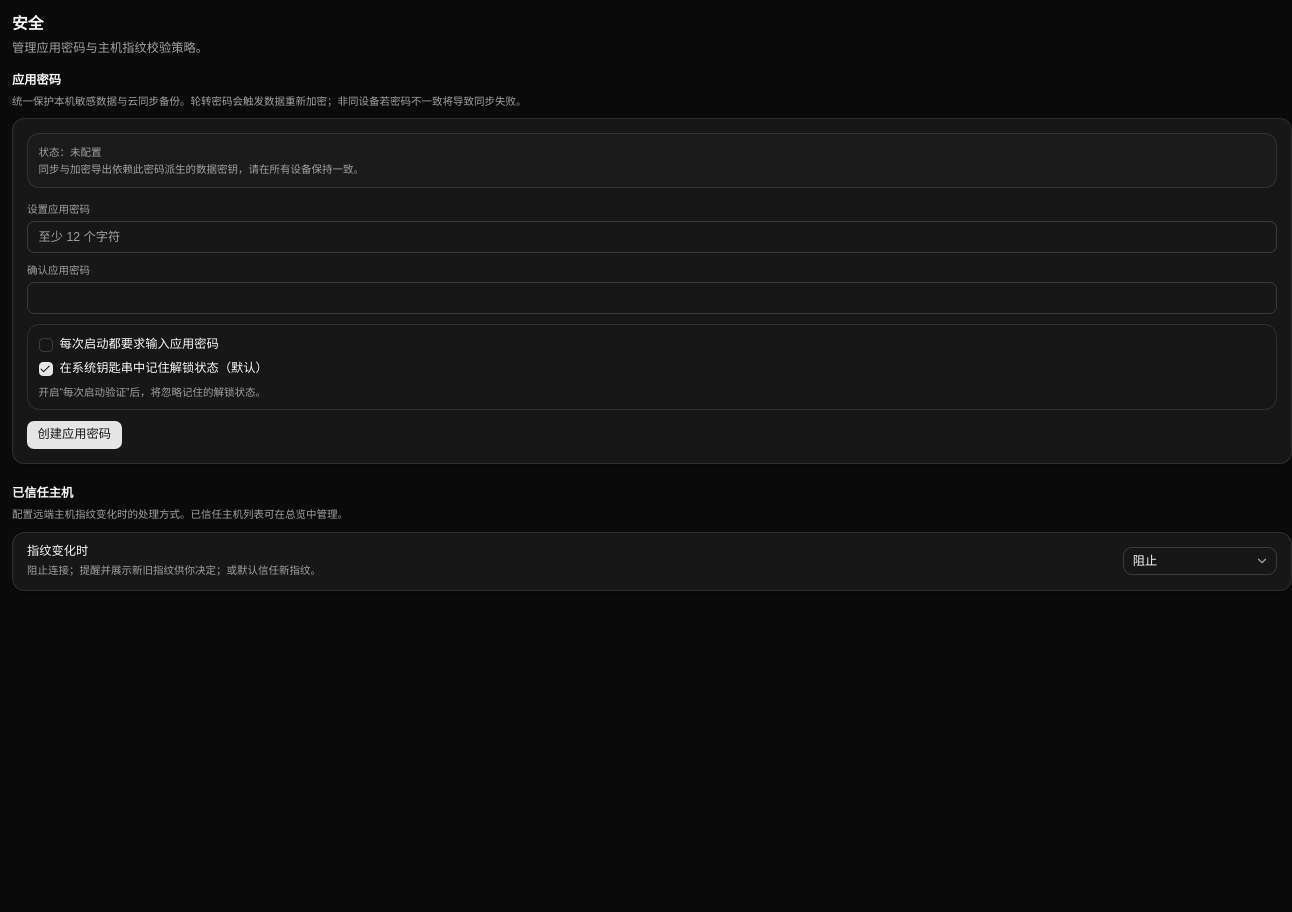
Scenario: SecurityPanel › surfaces fingerprint policy save failures inline without toast
This screenshot has width=1292, height=912.
What coordinates should you click on to do the following:
click the dropdown named "指纹变化时"
I would click on:
 (1200, 561)
Its box is [1123,547,1277,575].
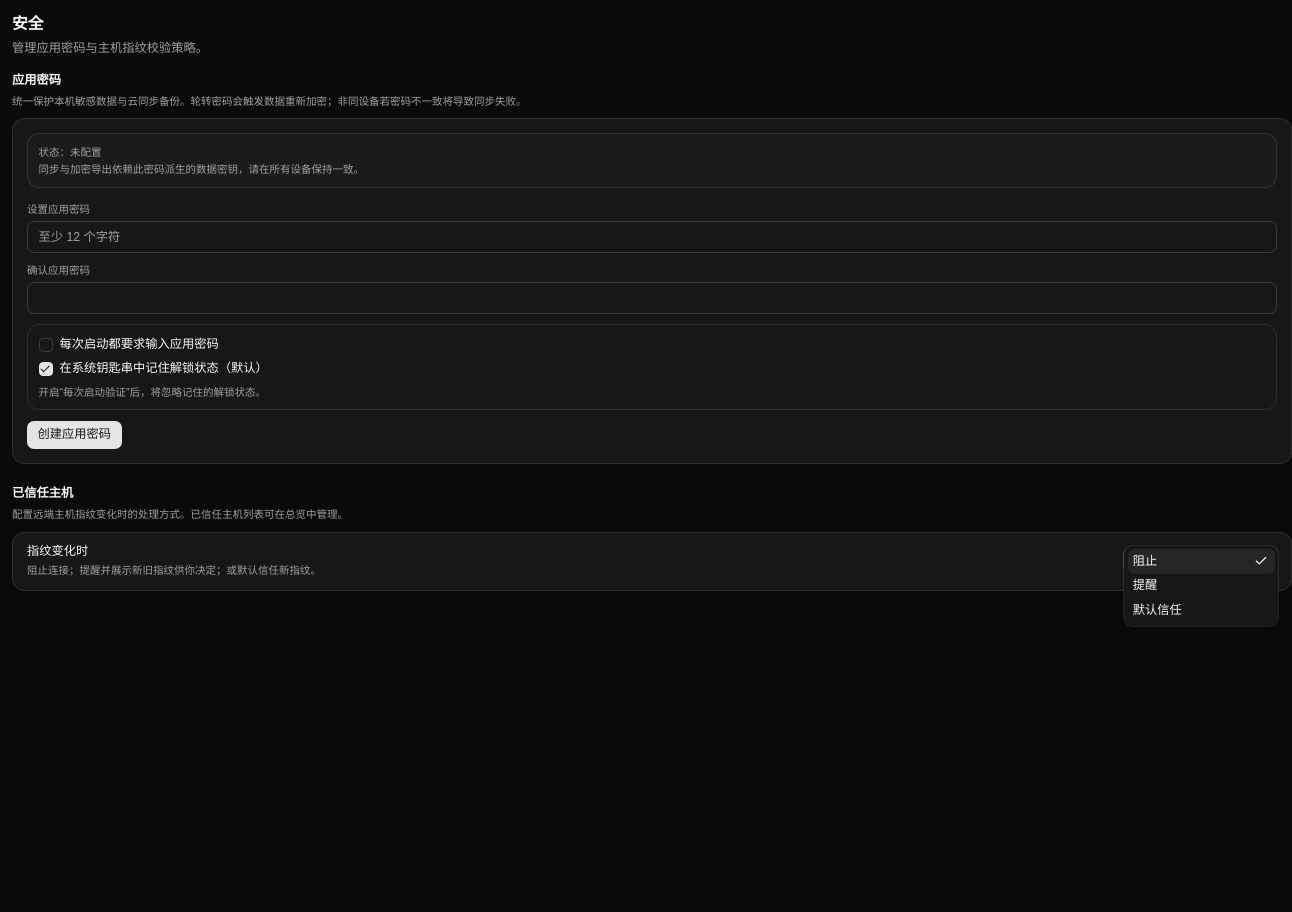
What coordinates should you click on to do the following:
click the option "提醒"
I would click on:
 (1145, 585)
Its box is [1133,578,1157,592].
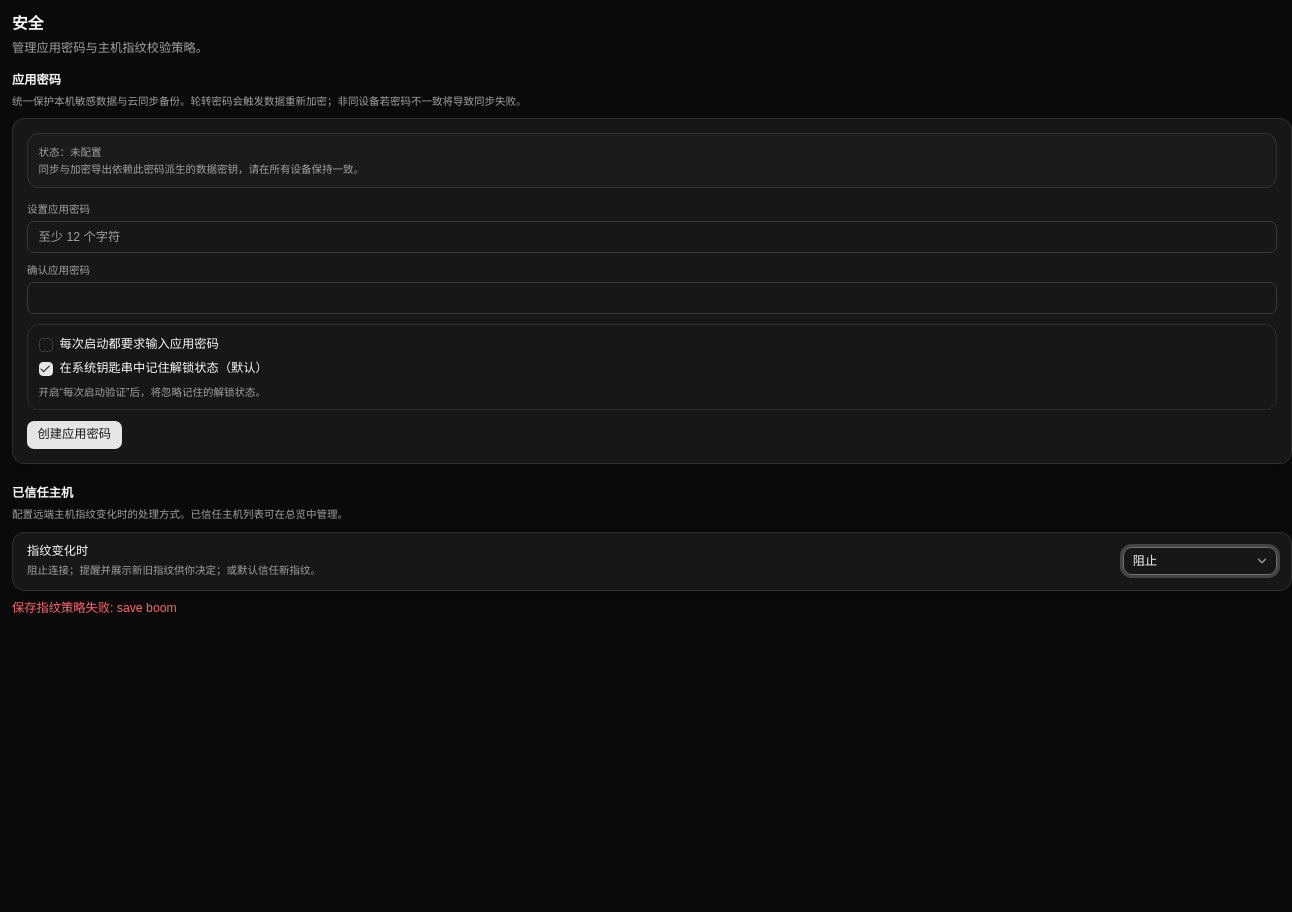
Now the text "保存指纹策略失败: save boom" is shown, box [12,601,177,615]
